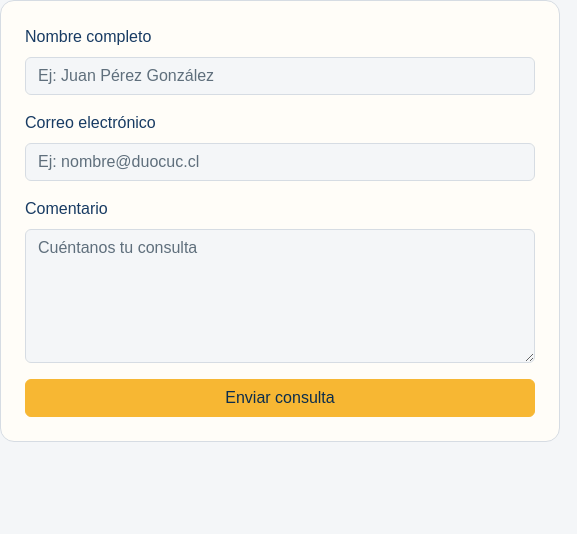
Test: ContactoContainer › rechaza un correo con dominio no permitido
The image size is (577, 534).
In the field labelled "Correo electrónico": (280, 162) [25,143,535,181], type "hola@yahoo.com"
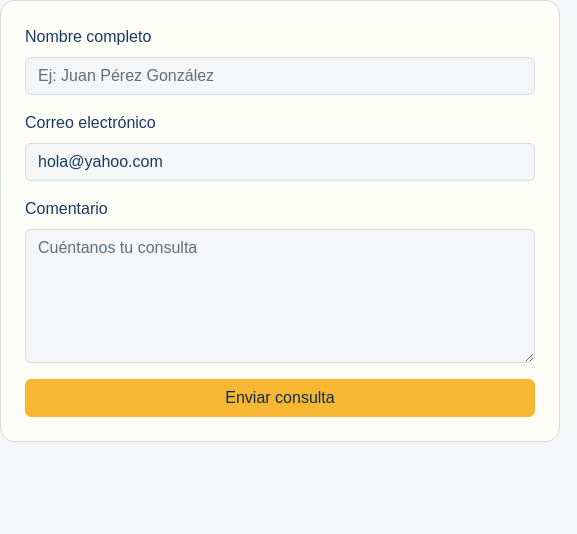
Click the button "Enviar consulta": (280, 398) [25,379,535,417]
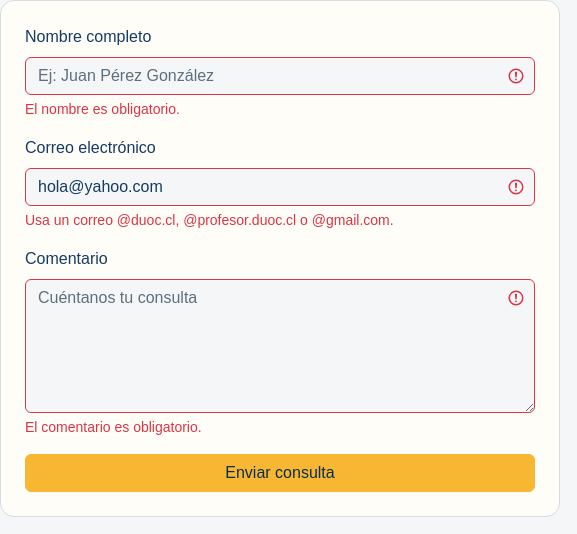
expect the text "Usa un correo @duoc.cl, @profesor.duoc.cl o @gmail.com." is shown: met, box [25,212,394,228]
